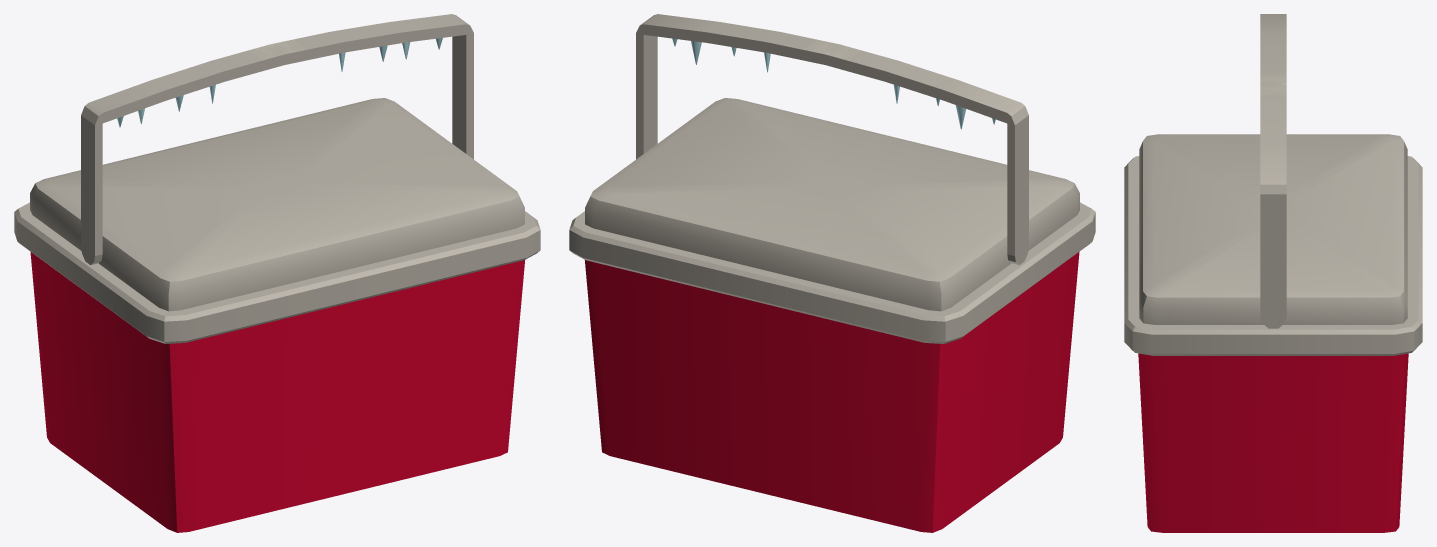
Rendered from HieleraV2.FBX.
3 renders of one model, left to right at view 1: azimuth 30°, elevation 25°; view 2: azimuth 150°, elevation 25°; view 3: azimuth 270°, elevation 25°, orthographic. The views are drawn at different scales.
Visible parts, largest first — view 1: Cuerpo_hielera; view 2: Cuerpo_hielera; view 3: Cuerpo_hielera.
Part boxes in pixels (x1,y1,x2,y2): Cuerpo_hielera: [14, 14, 540, 532]; Cuerpo_hielera: [569, 14, 1095, 532]; Cuerpo_hielera: [1124, 14, 1422, 532].
Size of the model in its own units: 55.74 by 39.17 by 53.88.
1 material, 1 textured.
